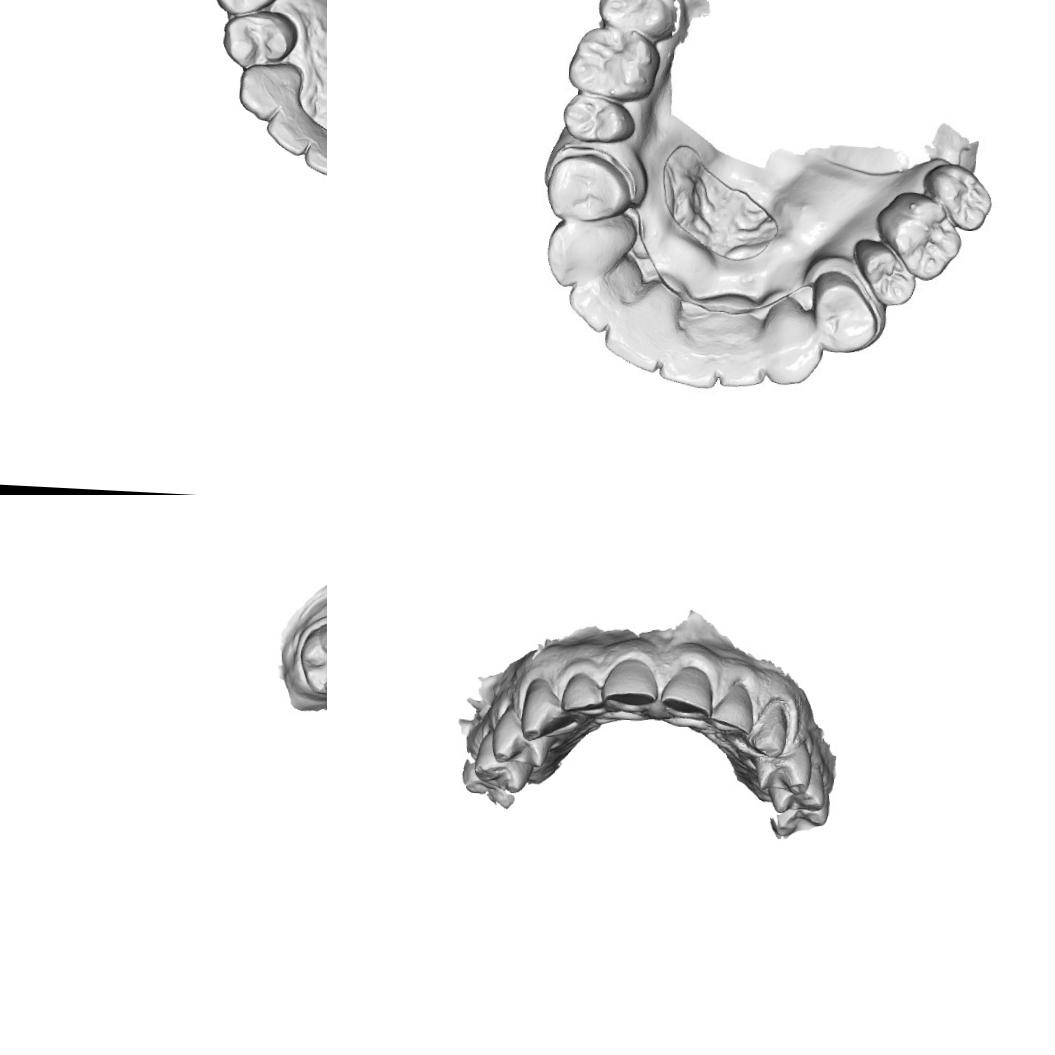canine: (544, 210, 636, 291), (756, 296, 824, 390), (234, 57, 310, 126), (516, 676, 568, 743)
crown: (746, 700, 791, 759)
incisor: (599, 301, 670, 378), (653, 320, 723, 391), (710, 314, 766, 390), (262, 96, 324, 159), (563, 271, 618, 339), (655, 662, 717, 722), (601, 656, 661, 706), (708, 676, 756, 736), (560, 668, 608, 718), (300, 123, 327, 182)
molar: (872, 190, 964, 282), (564, 22, 664, 104), (918, 160, 994, 234), (594, 0, 685, 41), (295, 618, 327, 701)
premolar: (537, 148, 635, 228), (802, 268, 882, 356), (218, 7, 305, 72), (852, 240, 918, 311), (553, 92, 639, 146), (467, 736, 538, 795), (489, 718, 556, 771), (765, 768, 827, 818), (754, 746, 815, 796), (209, 0, 283, 17)
